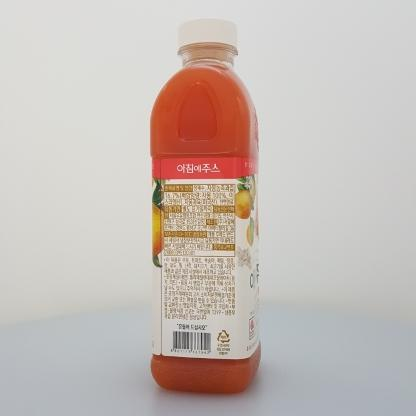-----------950ML: (150, 18, 260, 395)
